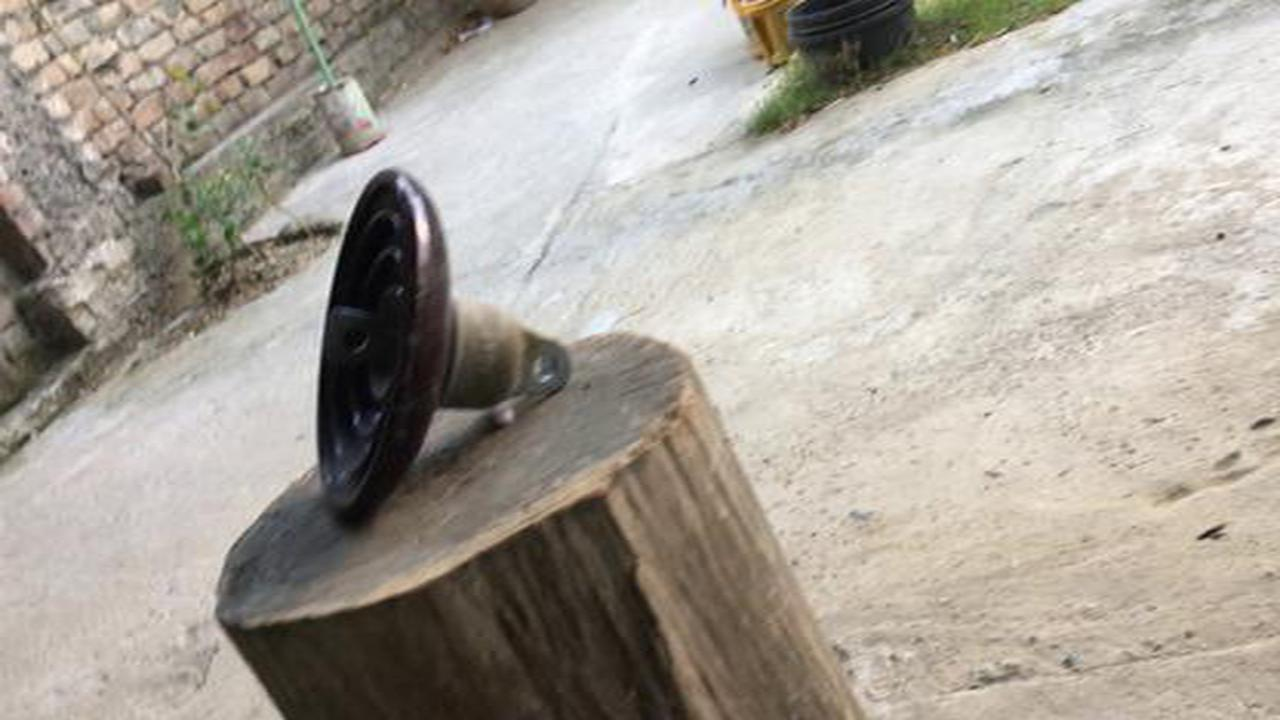insulator_disc: (312, 164, 577, 527)
